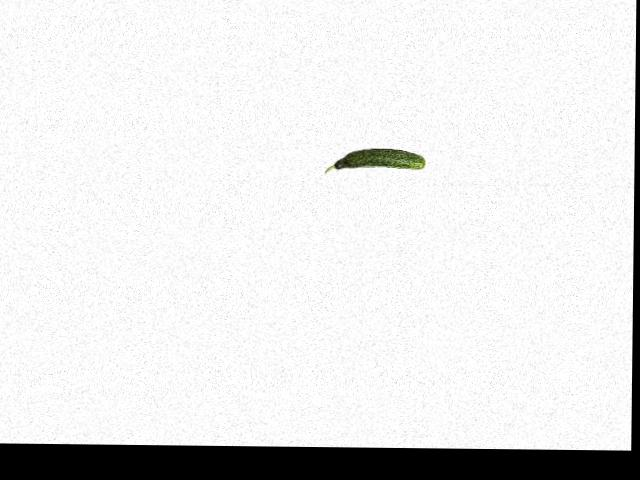cucumber: (323, 148, 424, 174)
